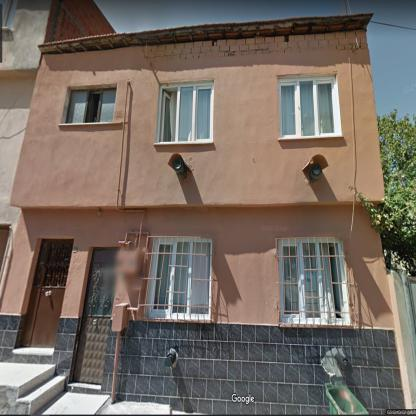door: (74, 249, 119, 385), (20, 240, 73, 346)
window: (279, 240, 350, 323), (146, 238, 212, 318), (277, 76, 342, 139), (156, 80, 213, 146), (65, 87, 117, 123), (3, 1, 16, 26)
